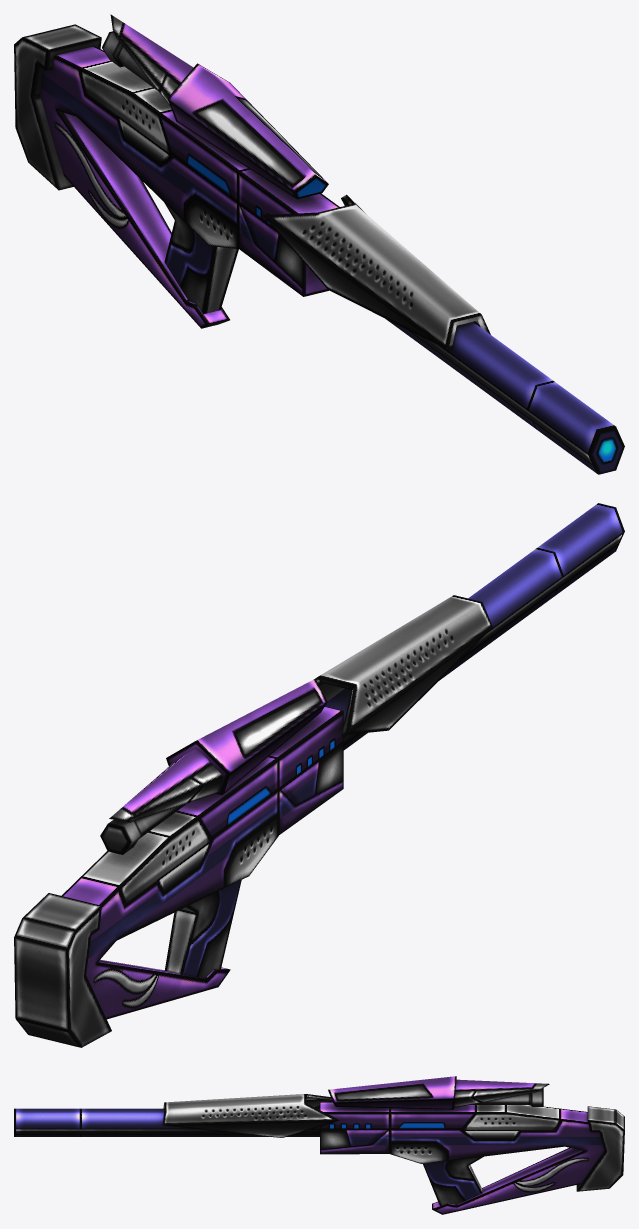
The model's file is weapon_sniper_05.FBX.
3 views of the same model, one above another, from view 1: azimuth 30°, elevation 25°; view 2: azimuth 150°, elevation 25°; view 3: azimuth 270°, elevation 25° (orthographic). The views are drawn at different scales.
Parts seen in each view (by area): view 1: weapon_sniper_05; view 2: weapon_sniper_05; view 3: weapon_sniper_05.
Part boxes in pixels (x1=…): weapon_sniper_05: x1=14, y1=14, x2=624, y2=474; weapon_sniper_05: x1=14, y1=503, x2=624, y2=1047; weapon_sniper_05: x1=14, y1=1076, x2=624, y2=1214.
Bounding box in the file's own units: 25.31 × 72.79 × 295.
